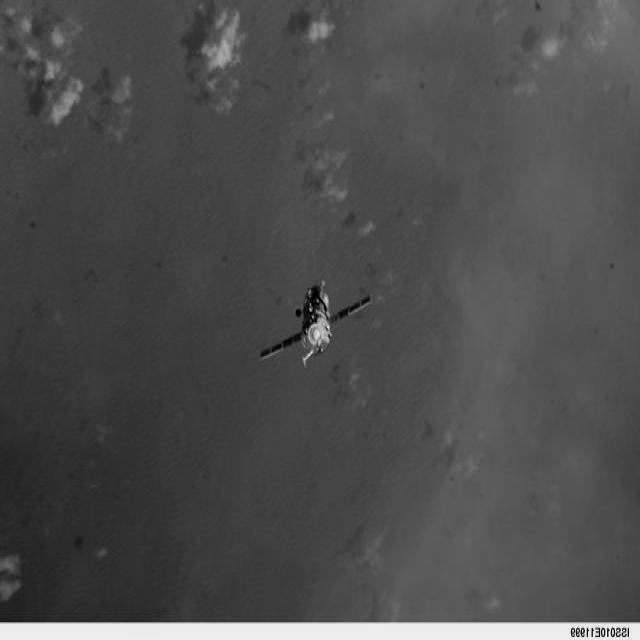satellite: (266, 268, 369, 386)
